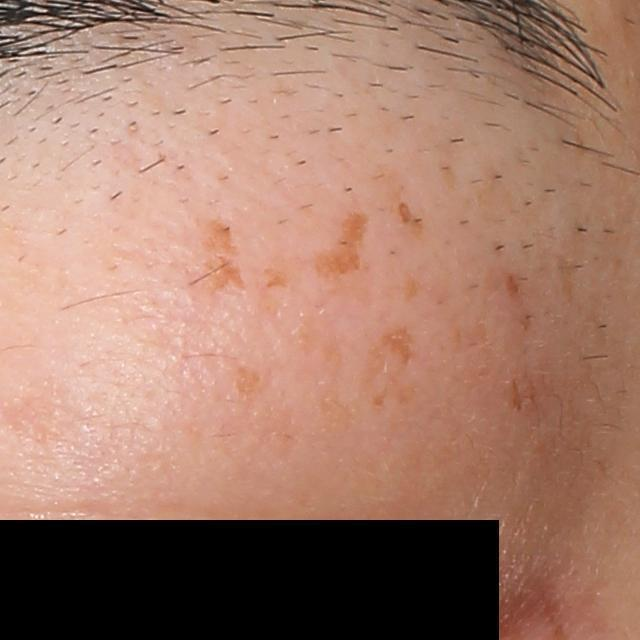melasma: (314, 213, 368, 273), (205, 220, 238, 253), (511, 376, 537, 417)
